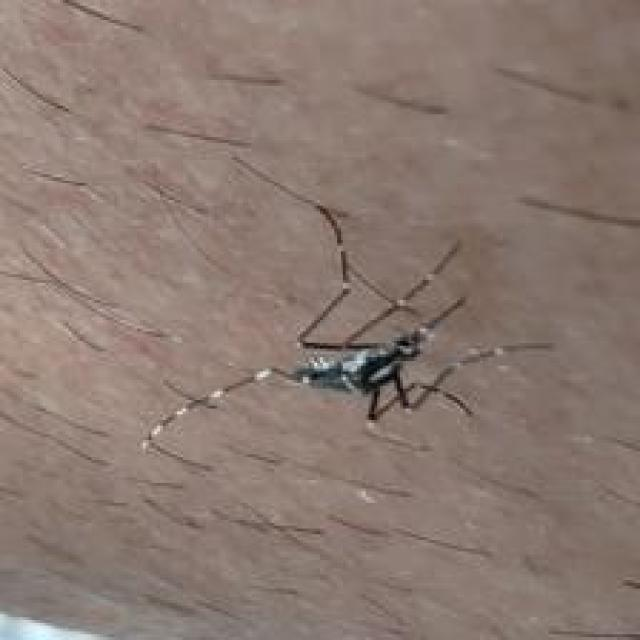Aedes albopictus: (140, 204, 554, 470)
